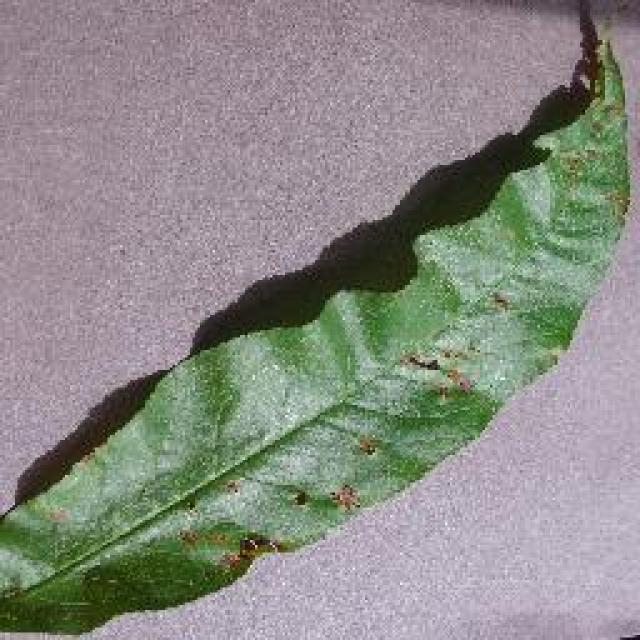Peach_Bacterial_Spot: (222, 233, 532, 510)
